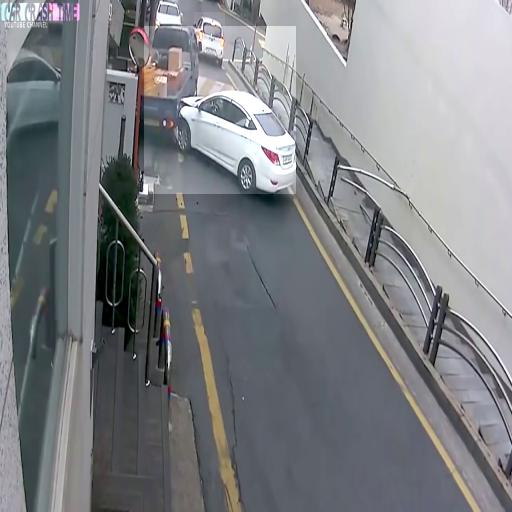小汽车: (194, 12, 225, 70)
小汽车撞小汽车: (144, 26, 296, 194)
